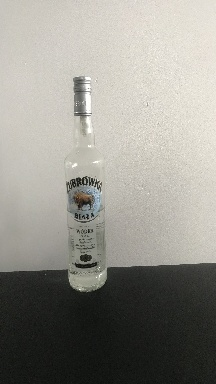butelka: (62, 72, 108, 294)
